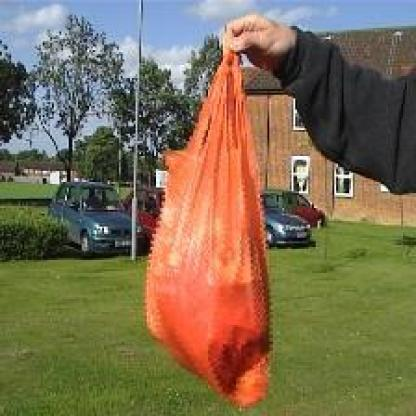other: (147, 52, 285, 400)
